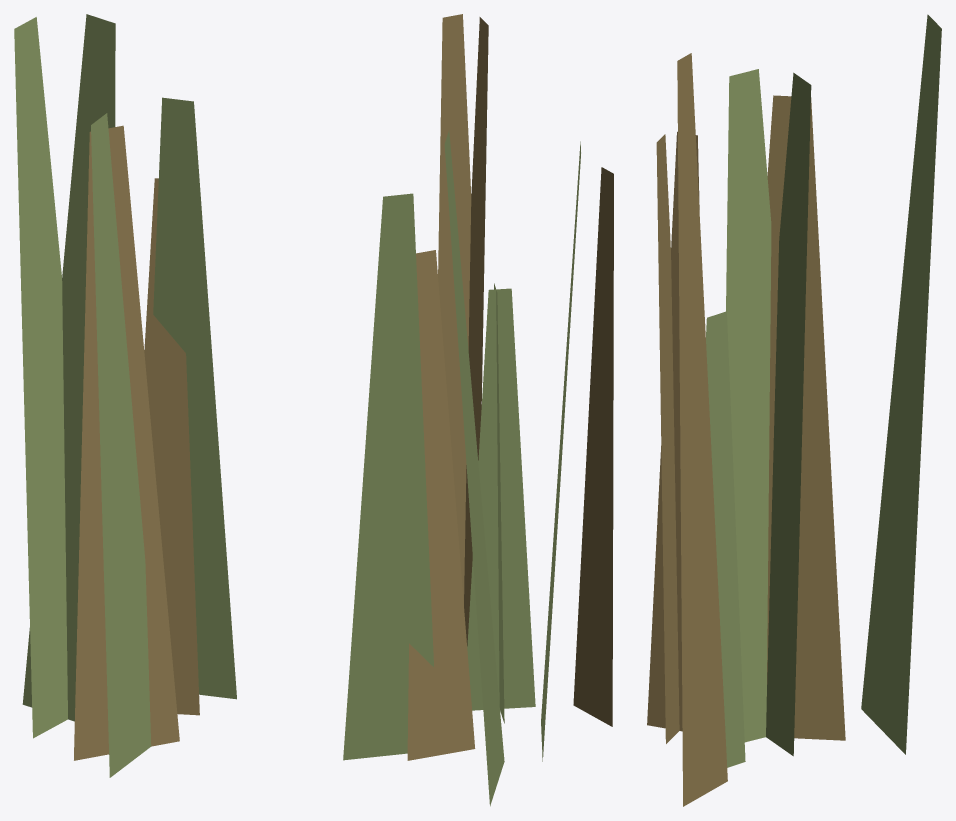
The model's file is cao.luwei@subadult__autumn.glb.
3 renders of one model, left to right at view 1: azimuth 30°, elevation 25°; view 2: azimuth 150°, elevation 25°; view 3: azimuth 270°, elevation 25°, orthographic. The views are drawn at different scales.
Visible parts, largest first — view 1: cao.luwei@subadult__autumn; view 2: cao.luwei@subadult__autumn; view 3: cao.luwei@subadult__autumn.
Boxes of the visible parts, x1,y1,x2,y2 form: cao.luwei@subadult__autumn: [14, 14, 236, 777]; cao.luwei@subadult__autumn: [343, 14, 613, 806]; cao.luwei@subadult__autumn: [647, 14, 941, 806].
Size of the model in its own units: 0.3813 by 1.33 by 0.4852.
